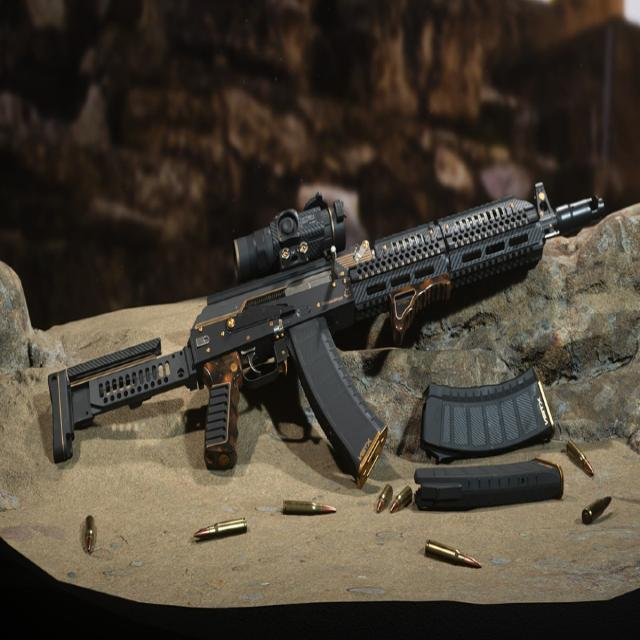Rifle: (46, 183, 605, 486)
